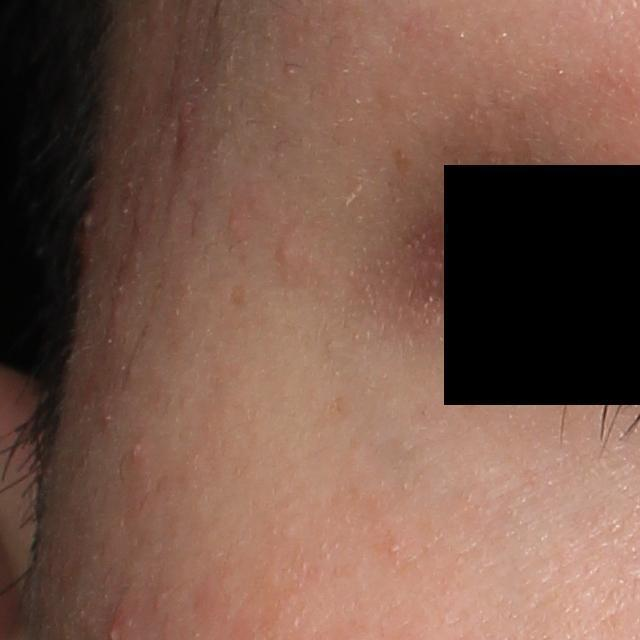comedo: (386, 541, 400, 555)
melasma: (393, 149, 417, 181), (228, 280, 252, 312)
